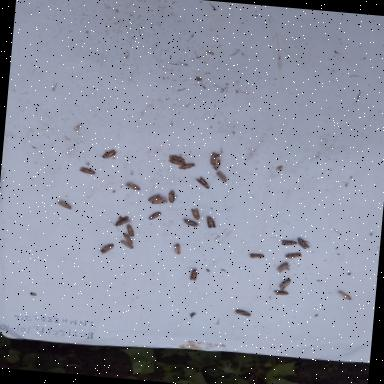pbw: (204, 152, 231, 174), (72, 161, 102, 180), (51, 193, 78, 213), (183, 264, 206, 284), (120, 177, 144, 195), (280, 249, 308, 264), (292, 234, 316, 251), (202, 212, 222, 232), (243, 248, 268, 264), (99, 144, 121, 162), (116, 236, 140, 252), (272, 260, 296, 276), (96, 240, 116, 258), (162, 188, 182, 206), (213, 170, 232, 186), (178, 218, 202, 230), (149, 195, 171, 208), (144, 210, 163, 224), (166, 152, 188, 164), (194, 176, 212, 190), (114, 216, 132, 230), (278, 276, 293, 292), (334, 290, 354, 302), (164, 158, 188, 168), (231, 308, 254, 318), (186, 207, 202, 220), (146, 191, 162, 204), (271, 288, 291, 298), (176, 161, 196, 171), (120, 232, 134, 246), (170, 242, 183, 257), (280, 238, 299, 248), (122, 224, 136, 237)
